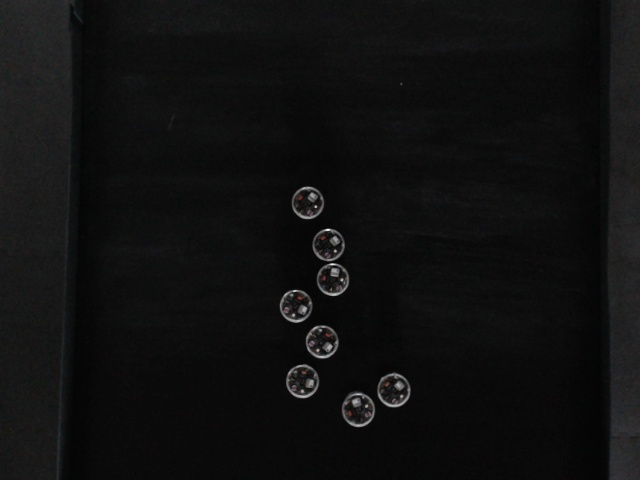epuck_2: (341, 392, 376, 428), (377, 372, 412, 408), (285, 364, 320, 399), (312, 226, 345, 262), (279, 289, 313, 323), (291, 185, 324, 220), (316, 263, 350, 296), (305, 325, 338, 359)
